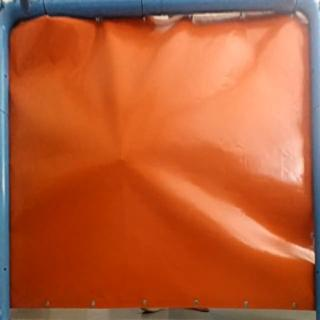Hit-hRxx: (116, 154, 128, 165)
